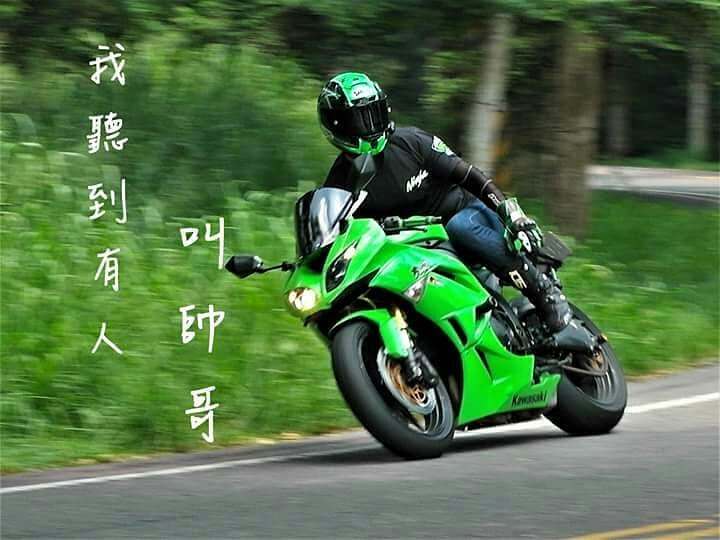helmet: (309, 76, 400, 162)
